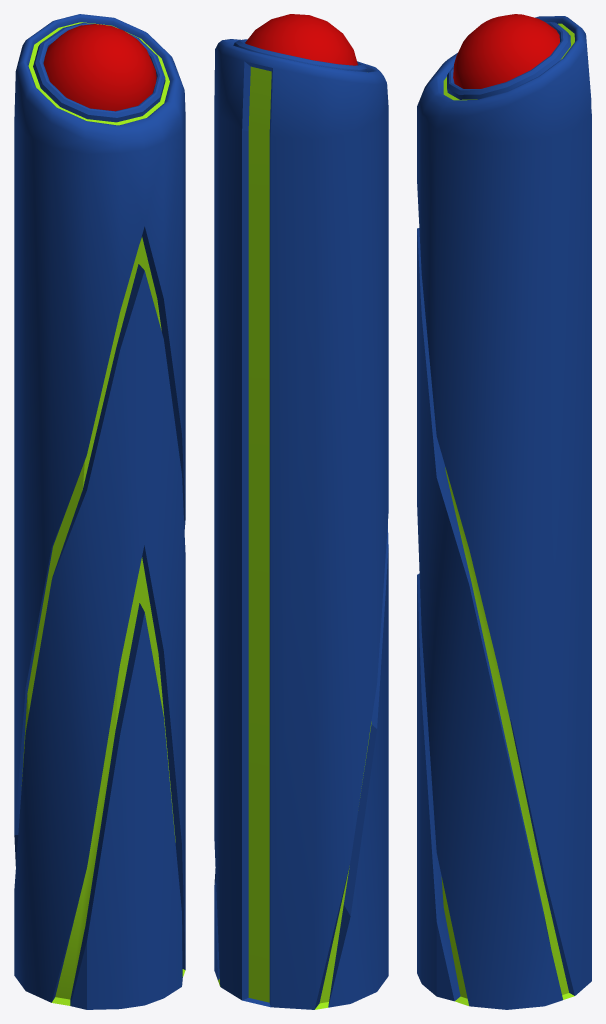
Rendered from ButtonAndPillar.FBX.
3 renders of one model, left to right at view 1: azimuth 30°, elevation 25°; view 2: azimuth 150°, elevation 25°; view 3: azimuth 270°, elevation 25°, orthographic.
Parts seen in each view (by area): view 1: Pillar 2, Button 2; view 2: Pillar 2, Button 2; view 3: Pillar 2, Button 2.
Part boxes in pixels (left/top/right/bottom): Pillar 2: left=14, top=14, right=185, bottom=1009; Button 2: left=43, top=24, right=156, bottom=111; Pillar 2: left=214, top=39, right=388, bottom=1009; Button 2: left=245, top=14, right=357, bottom=65; Pillar 2: left=417, top=16, right=591, bottom=1009; Button 2: left=453, top=14, right=559, bottom=88.
Size of the model in its own units: 20.26 by 121 by 20.08.
